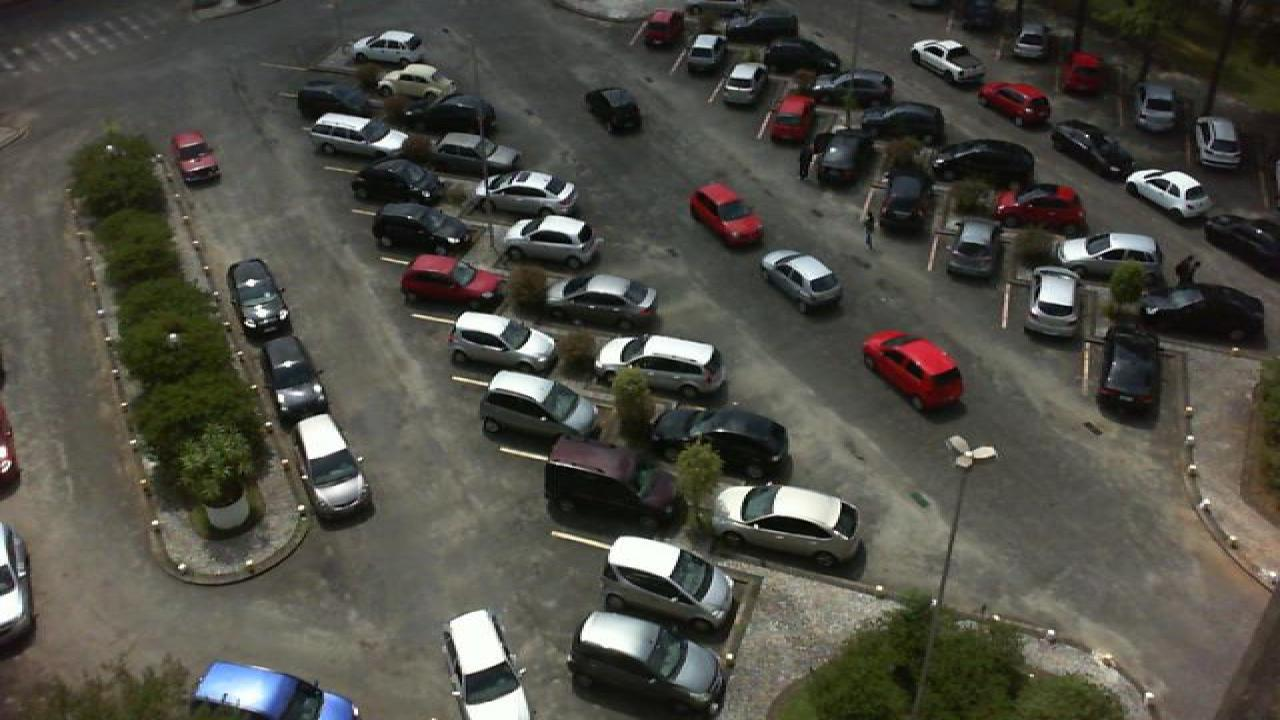Car: (568, 612, 730, 719), (598, 534, 752, 630), (708, 483, 866, 567), (542, 436, 682, 526), (192, 660, 360, 720), (478, 369, 608, 443), (292, 412, 374, 523), (1142, 282, 1270, 346), (592, 334, 724, 396), (684, 410, 794, 482), (1098, 316, 1166, 416), (448, 311, 560, 370), (544, 272, 662, 325), (496, 215, 604, 269), (398, 253, 506, 306), (370, 202, 478, 254), (260, 336, 328, 418), (226, 258, 290, 340), (992, 182, 1088, 236), (1050, 231, 1166, 274), (1048, 120, 1136, 176), (302, 114, 410, 158), (476, 170, 580, 215), (932, 138, 1038, 182), (350, 158, 446, 204), (1124, 169, 1214, 218), (1204, 213, 1280, 271), (1024, 268, 1082, 340), (376, 61, 458, 111), (432, 132, 520, 178), (942, 215, 1002, 278), (908, 38, 986, 86), (812, 127, 870, 185), (410, 94, 494, 134), (294, 81, 370, 125), (810, 70, 894, 108), (860, 102, 946, 139), (980, 81, 1054, 124), (760, 36, 840, 73), (878, 171, 926, 232), (1192, 115, 1244, 170), (720, 8, 800, 43), (350, 30, 424, 66), (764, 93, 816, 144), (1134, 81, 1180, 134), (720, 62, 766, 108), (1062, 50, 1104, 98), (684, 34, 722, 75), (1010, 23, 1048, 63)
